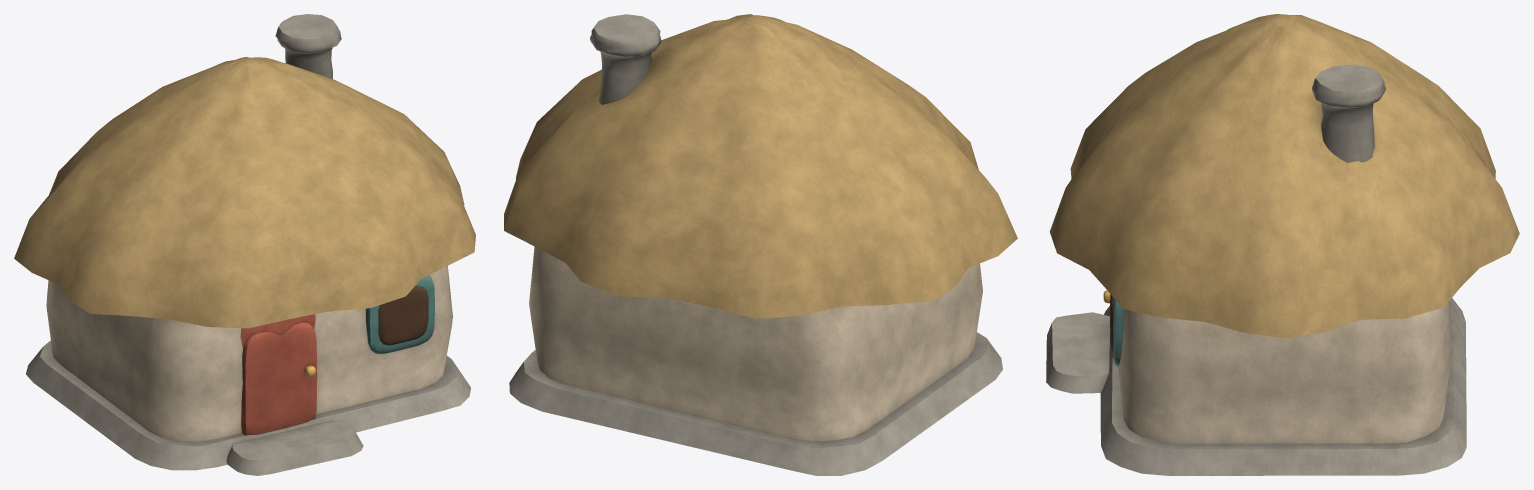
File: d1_cottage.glb
The picture shows the model from 3 angles, left to right: view 1: azimuth 30°, elevation 25°; view 2: azimuth 150°, elevation 25°; view 3: azimuth 270°, elevation 25°; orthographic projection. The views are drawn at different scales.
Visible parts, largest first — view 1: Cottage; view 2: Cottage; view 3: Cottage.
Part boxes in pixels (x1,y1,x2,y2): Cottage: [14, 14, 475, 475]; Cottage: [504, 14, 1017, 475]; Cottage: [1046, 14, 1519, 475].
Size of the model in its own units: 4.45 by 3.32 by 3.9.
1 material, 1 textured.
